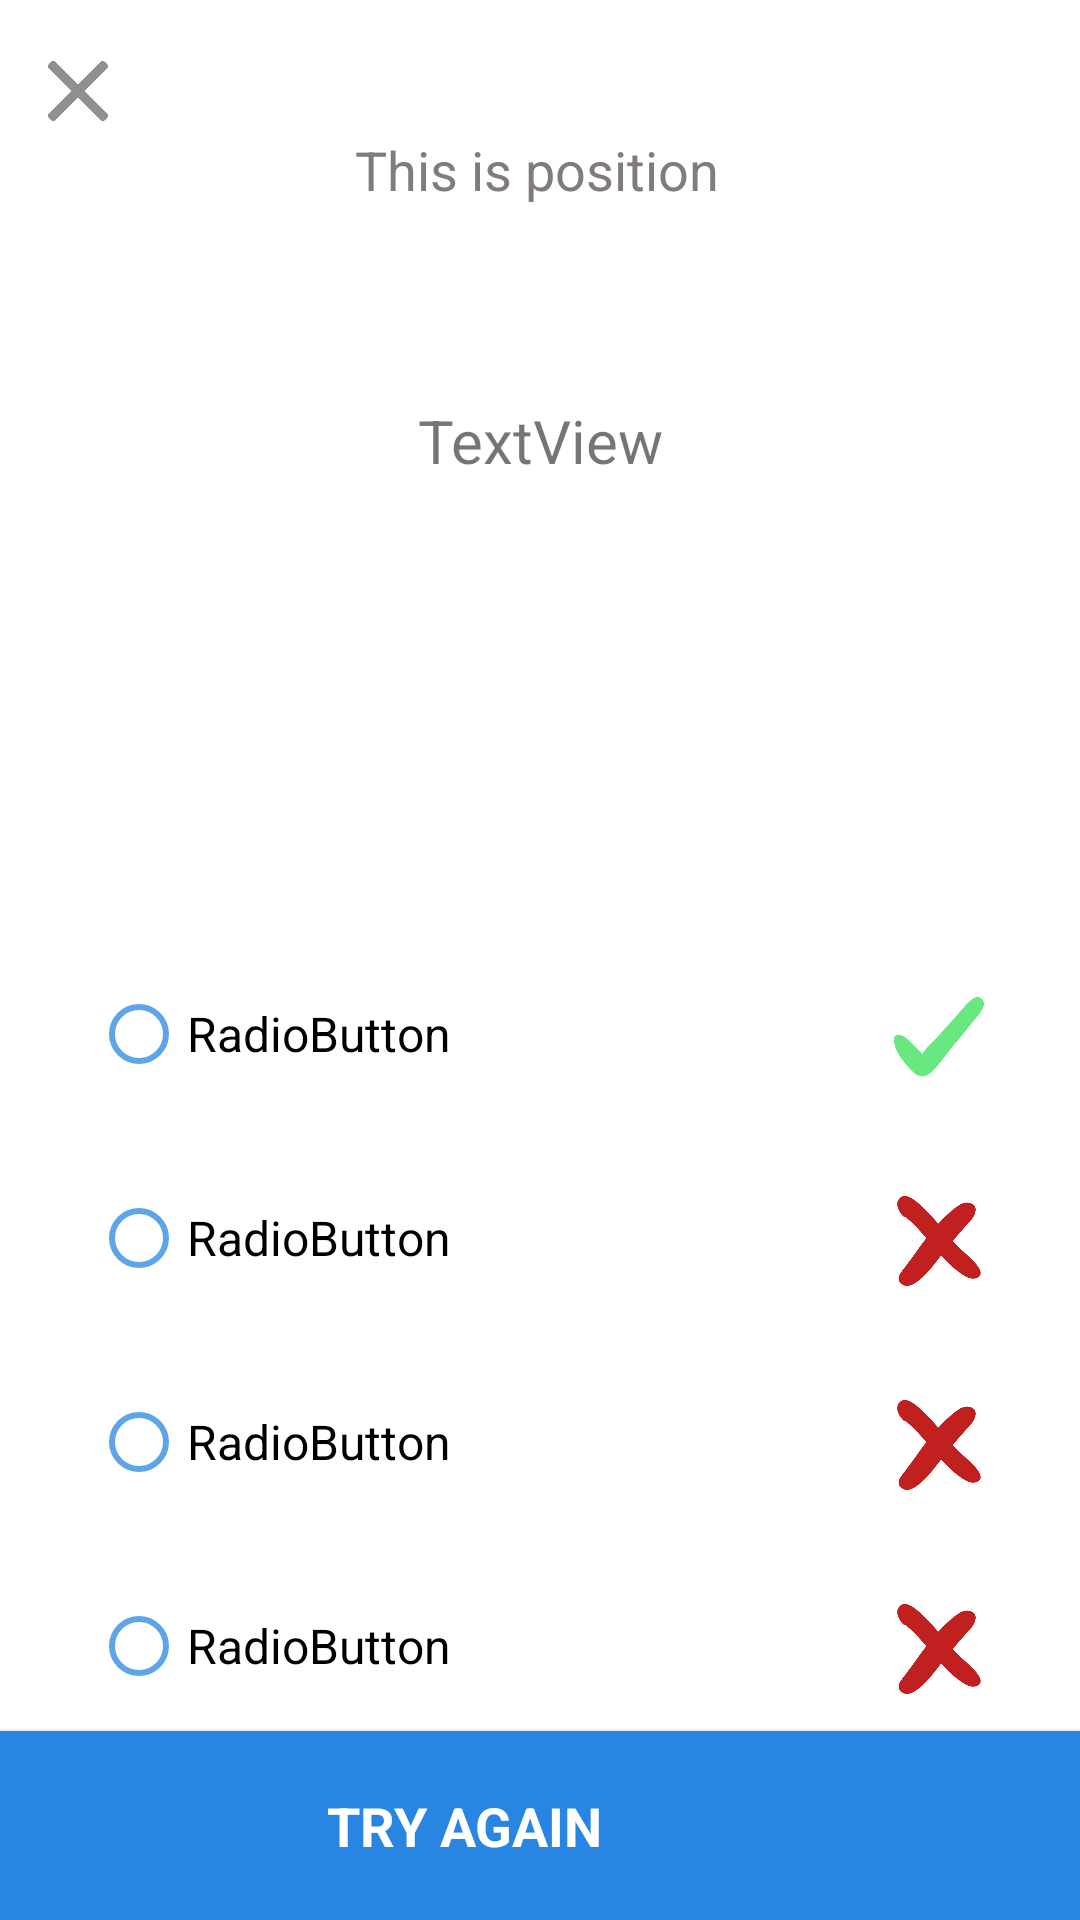

Locate icon controls on the screen. Image size 1080x1920, boxes as (x1, y1, x2, y2).
cancel: (48, 61, 108, 121)
correct: (894, 997, 984, 1077)
wrong: (897, 1196, 981, 1286), (897, 1400, 981, 1490), (897, 1604, 981, 1694)
